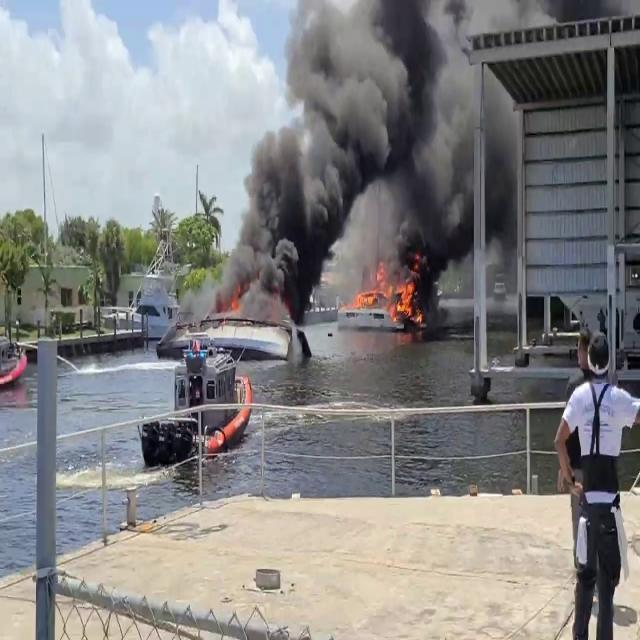Fire: (349, 266, 421, 324)
Smoke: (214, 0, 526, 318)
